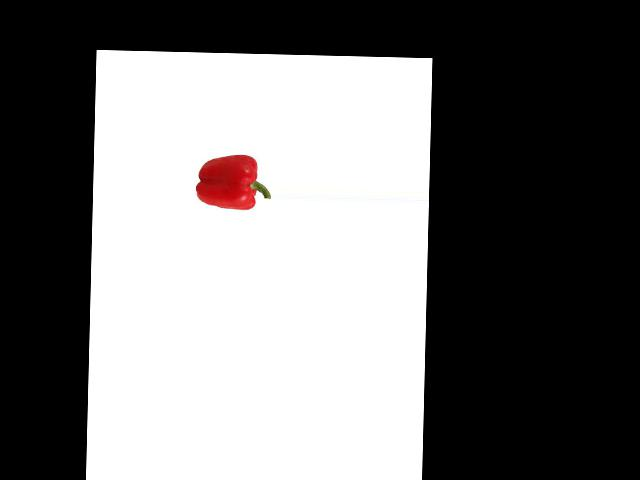bell_pepper: (194, 145, 271, 213)
